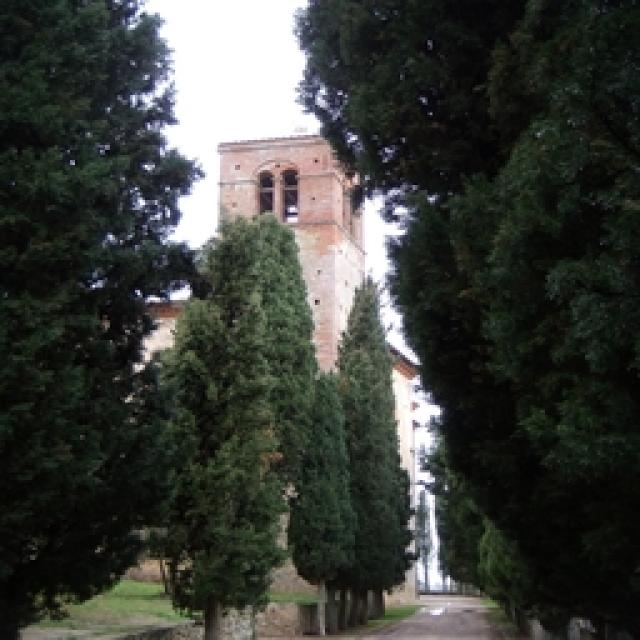Abbey: (208, 126, 426, 616)
